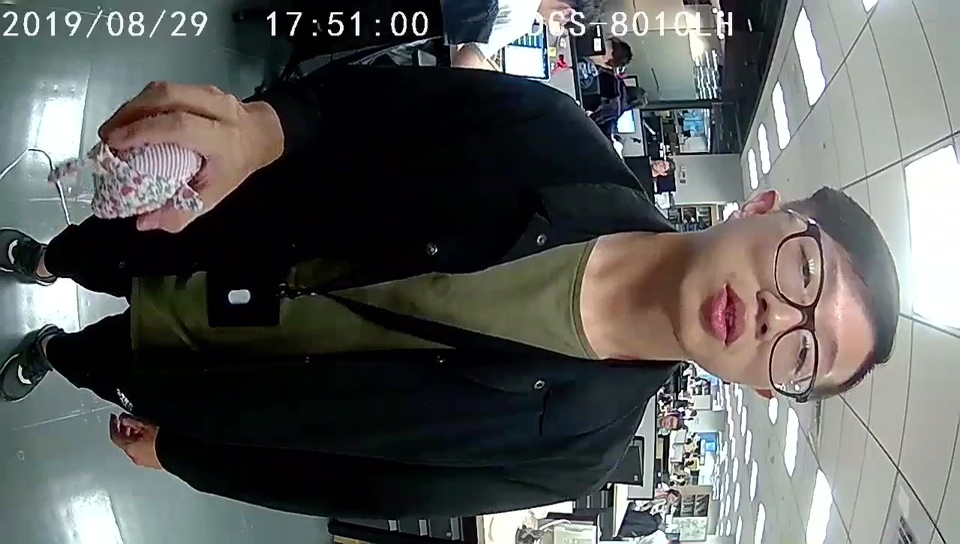pig: (87, 137, 206, 223)
